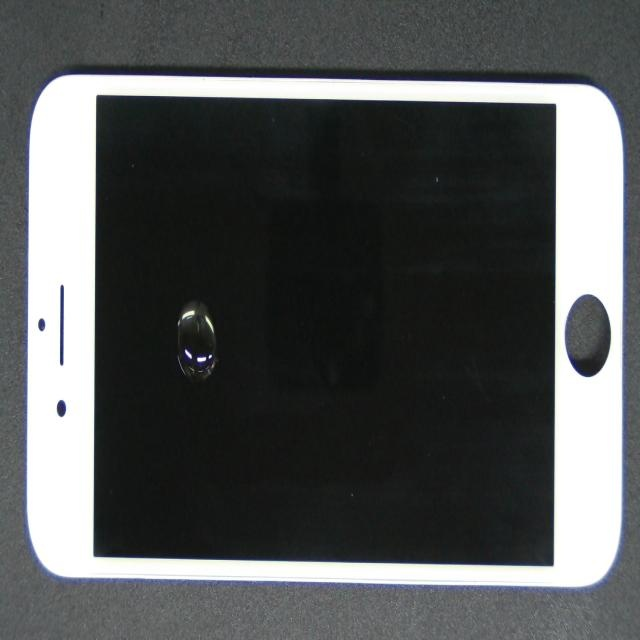oil: (124, 169, 312, 459)
